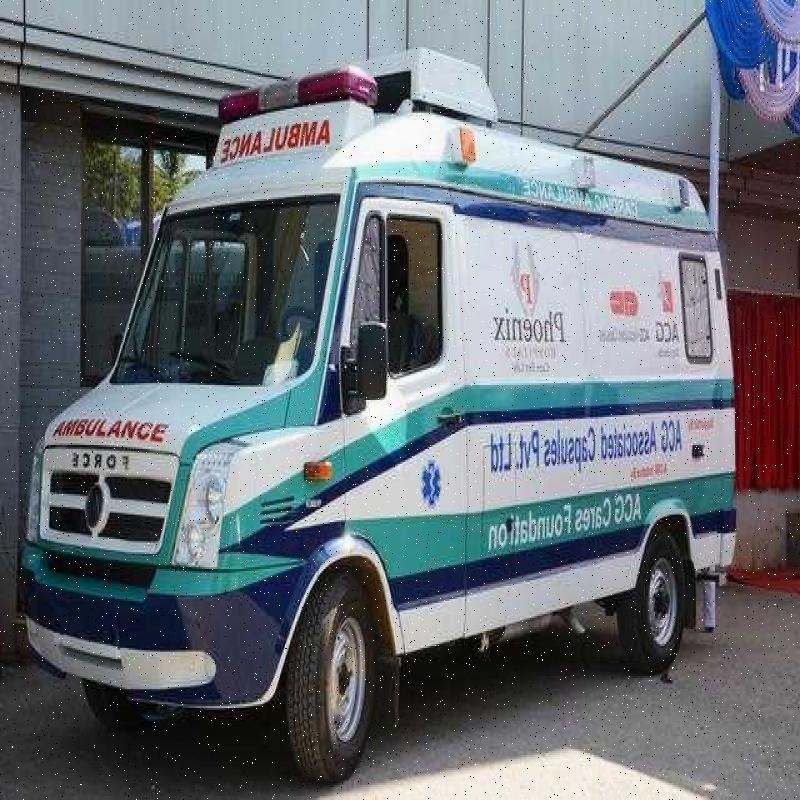AmbulanceSiren: (201, 48, 374, 142)
ambulance: (15, 29, 763, 800)
